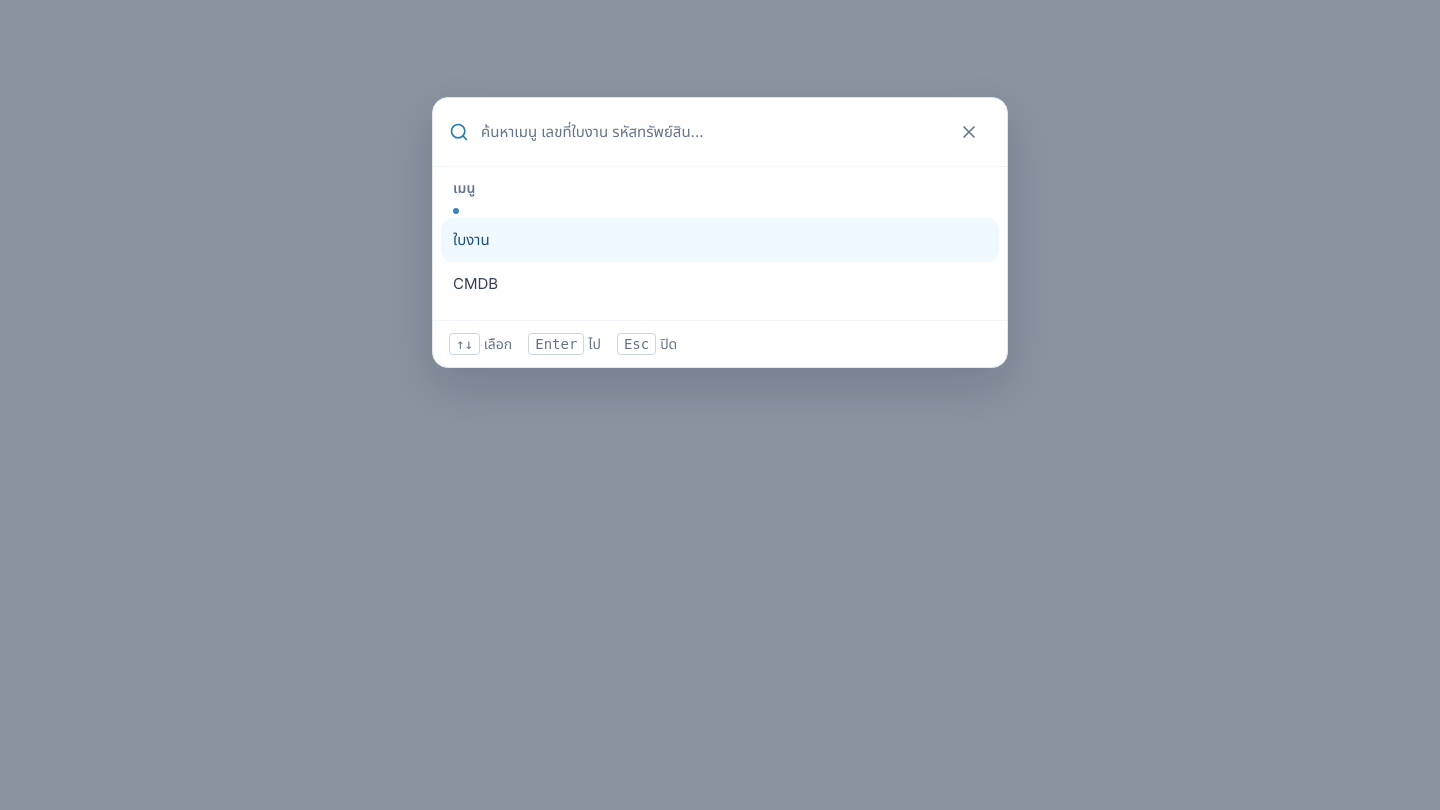
Test case: CommandPalette › เมนูอยู่ก่อนผลจากฐานข้อมูลเสมอ รายการที่เล็งไว้จะได้ไม่ขยับหนีตอนผลค้นหามาถึง
This screenshot has width=1440, height=810.
In the field named "คำค้นหา": (708, 132) [481,110,935,154], type "ใบงาน"
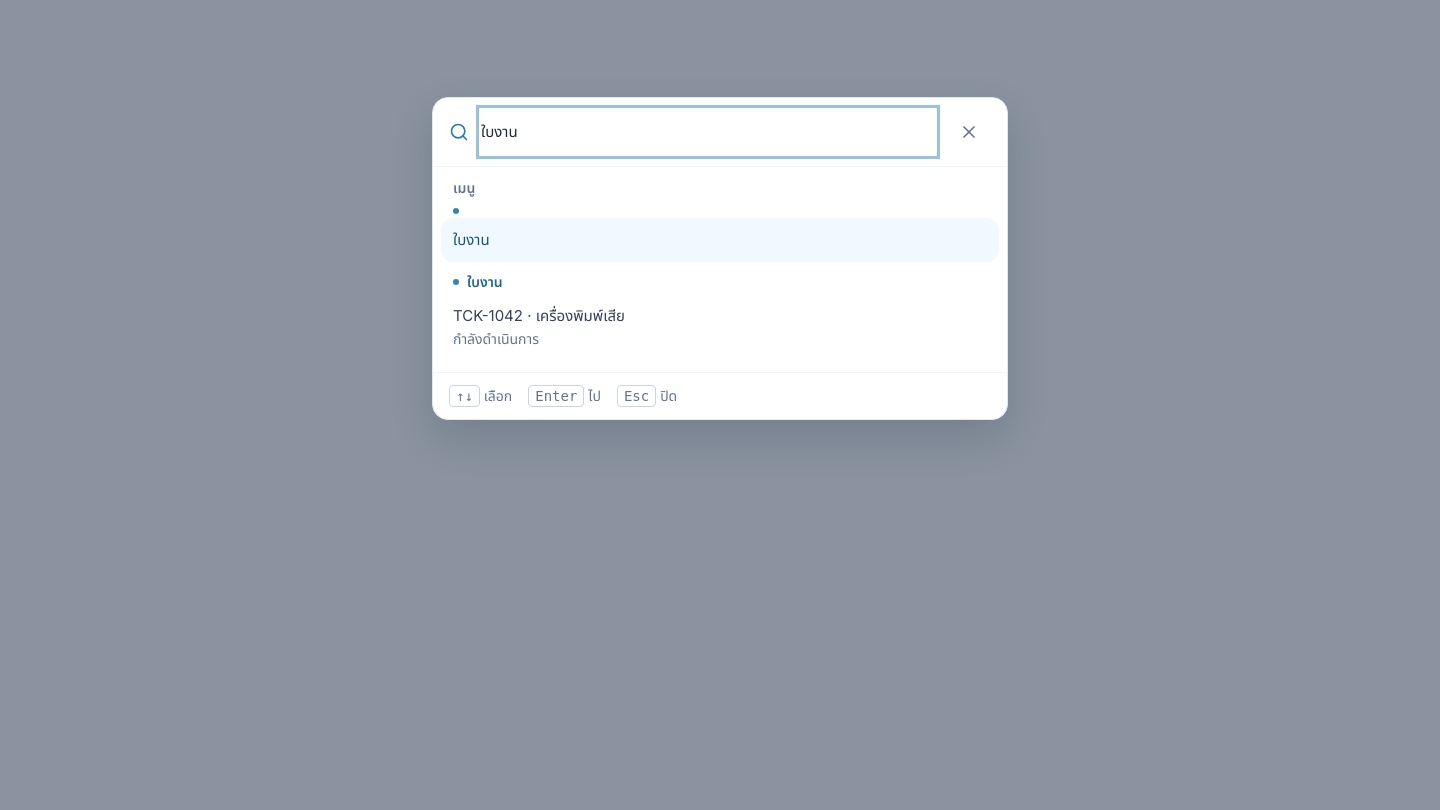
Check: the text "เมนู" is shown, box [453,179,475,196]
Check: the text "TCK-1042 · เครื่องพิมพ์เสีย" is shown, box [453,306,625,325]
